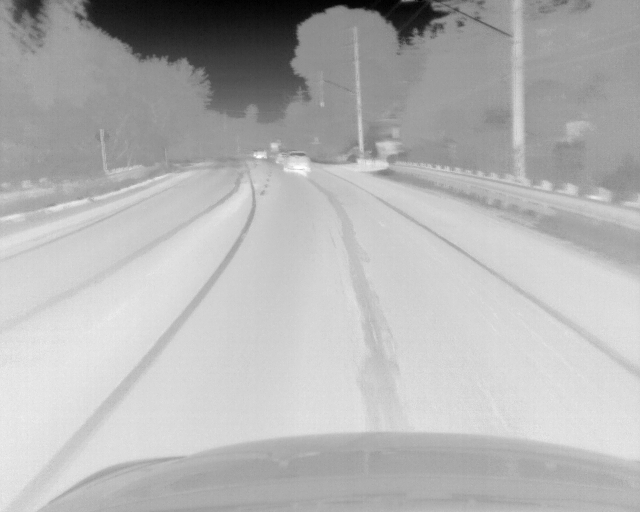car: (284, 151, 311, 175), (252, 149, 268, 160), (275, 151, 285, 164)
